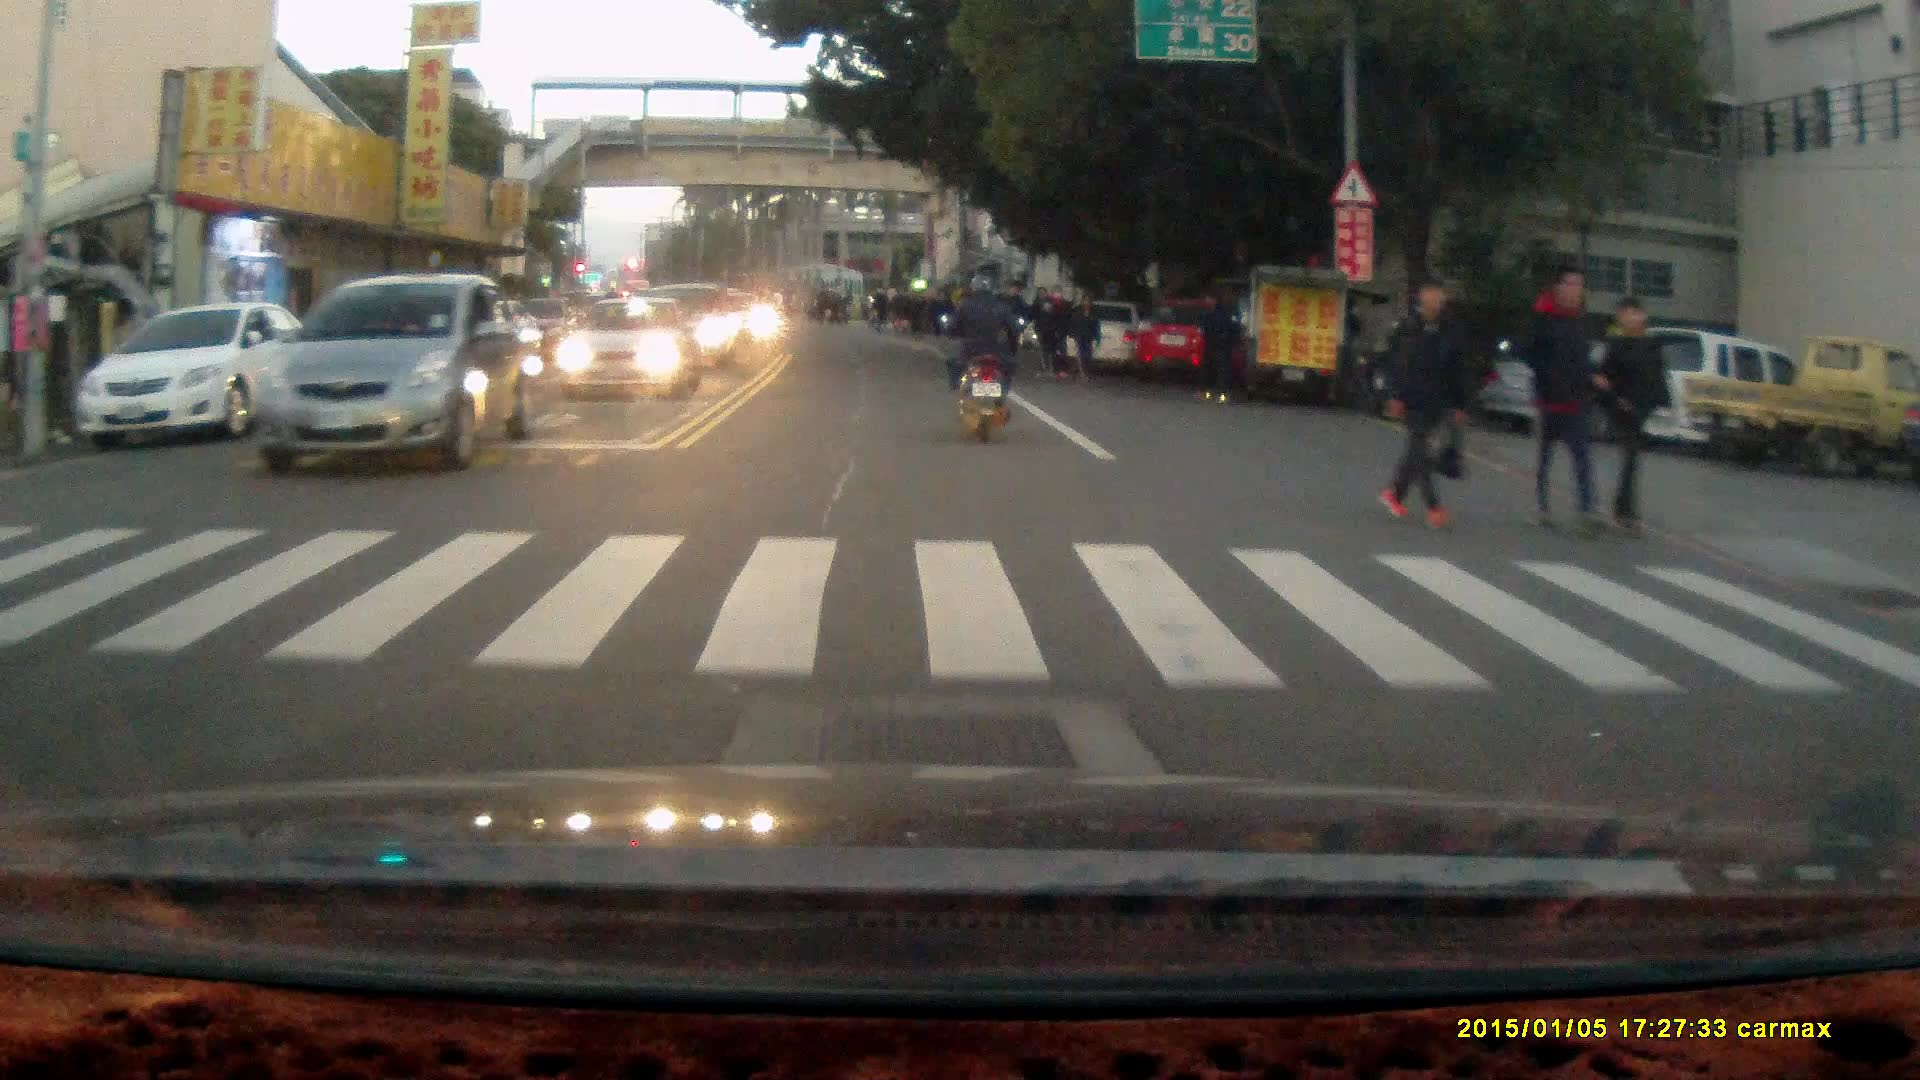pedestrian: (1372, 273, 1475, 533), (1521, 260, 1609, 538), (1595, 299, 1672, 546), (1192, 286, 1241, 411), (995, 278, 1028, 385), (1028, 286, 1058, 385), (1071, 292, 1103, 380)
rider: (937, 271, 1022, 446)
vehicle: (255, 276, 539, 476), (73, 301, 303, 447), (1674, 337, 1920, 471), (553, 298, 697, 403), (1127, 298, 1254, 389)
